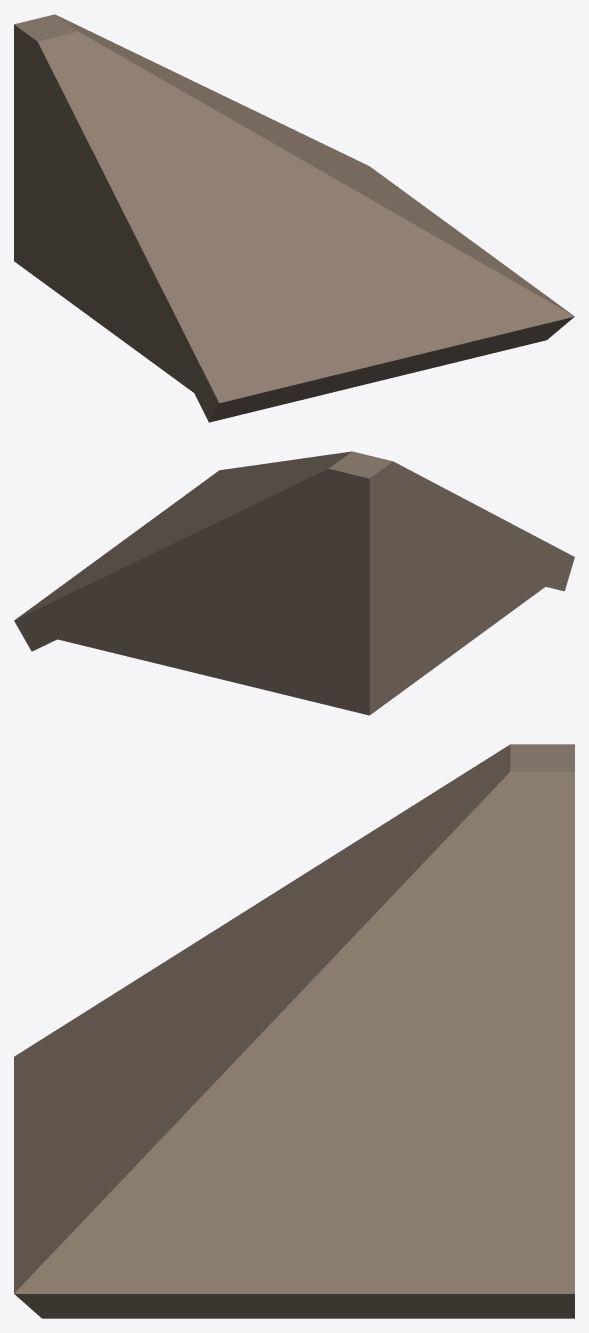
The model's file is roof-slanted-corner-c.obj.
3 renders of one model, top to bottom at view 1: azimuth 30°, elevation 25°; view 2: azimuth 150°, elevation 25°; view 3: azimuth 270°, elevation 25°, orthographic. The views are drawn at different scales.
Bounding box in the file's own units: 1.14 × 0.782 × 1.14.
